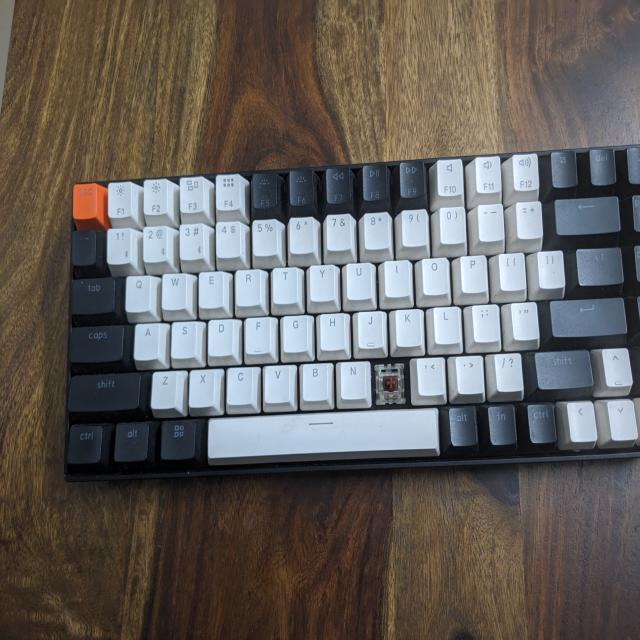C: (374, 364, 404, 402)
